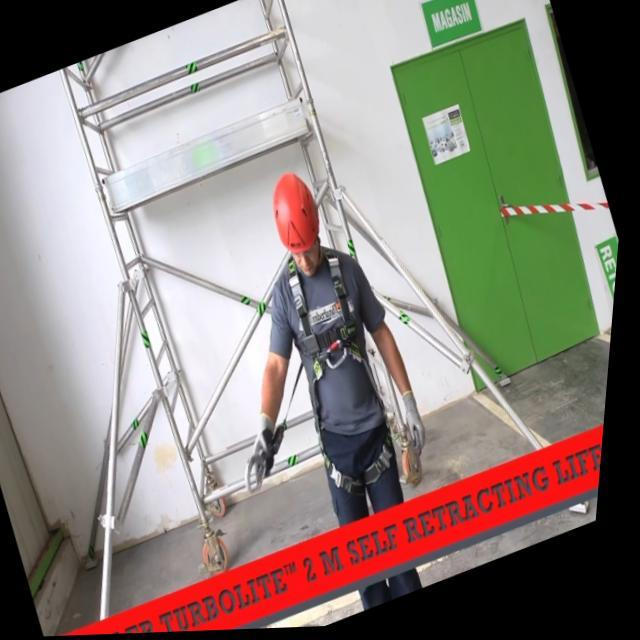belt: (251, 230, 437, 512)
